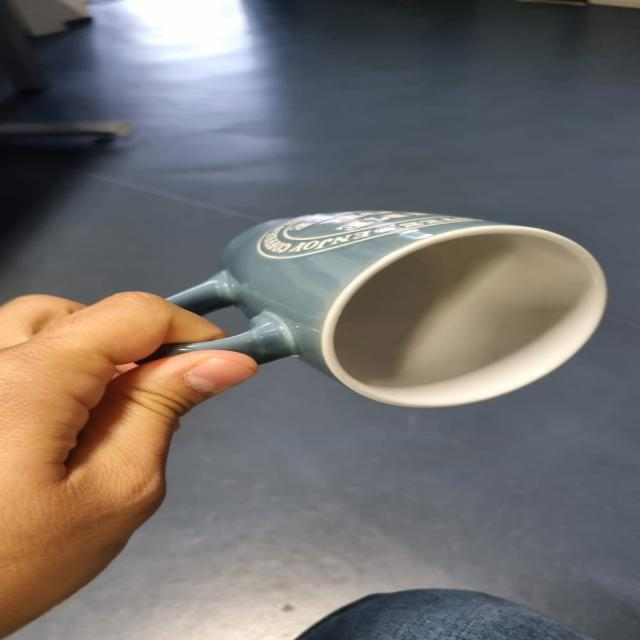Cup: (153, 211, 606, 407)
